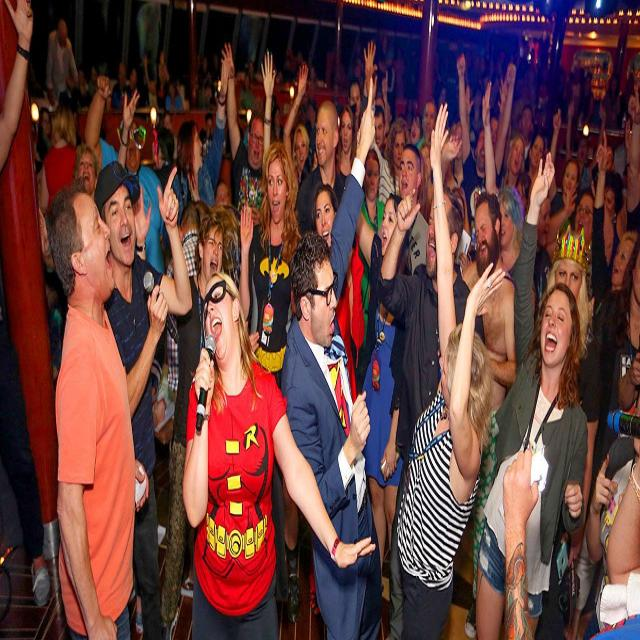body: (181, 269, 377, 639), (389, 99, 507, 639), (467, 148, 589, 639), (279, 70, 383, 639), (42, 172, 152, 639), (376, 182, 486, 640), (94, 160, 194, 640), (52, 10, 360, 154), (236, 137, 304, 626), (533, 218, 604, 640), (162, 209, 225, 629), (460, 192, 516, 637), (354, 190, 414, 581), (174, 208, 226, 604), (481, 79, 536, 400), (84, 74, 168, 273), (0, 287, 50, 612), (583, 393, 640, 640), (455, 50, 517, 263), (309, 180, 367, 407), (296, 95, 358, 274), (530, 47, 616, 170), (220, 38, 266, 264), (589, 442, 640, 640), (172, 55, 230, 228), (0, 0, 53, 177), (592, 128, 638, 299), (353, 145, 387, 366), (74, 88, 140, 193), (544, 182, 596, 305), (367, 64, 411, 206), (438, 120, 472, 275), (37, 98, 79, 223), (151, 125, 184, 275), (398, 142, 430, 277), (546, 106, 582, 226), (564, 95, 606, 194), (282, 62, 312, 185), (463, 77, 507, 158), (46, 18, 80, 111), (532, 193, 552, 324), (624, 82, 640, 229), (495, 130, 527, 196), (335, 104, 357, 193), (611, 228, 639, 290), (603, 168, 625, 232), (418, 142, 434, 224), (517, 101, 535, 172), (524, 130, 546, 184), (348, 77, 362, 133), (421, 96, 437, 143), (373, 102, 386, 158), (515, 171, 533, 211), (302, 134, 318, 176), (409, 113, 423, 148), (215, 179, 231, 207), (438, 81, 448, 108)
